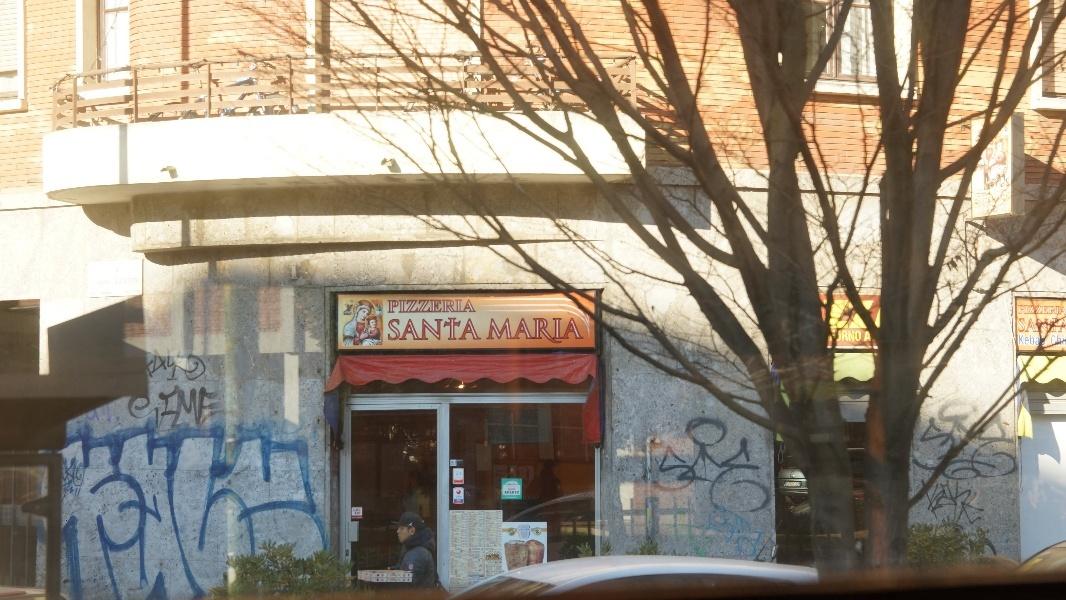text: (657, 443, 672, 493), (673, 443, 688, 493), (129, 385, 144, 433), (145, 385, 160, 433), (161, 385, 176, 433), (177, 385, 192, 433), (193, 385, 208, 433), (209, 385, 224, 433), (145, 349, 160, 383), (161, 349, 176, 383), (177, 349, 192, 383), (193, 349, 208, 383), (833, 296, 848, 330), (849, 296, 864, 330), (689, 443, 699, 493), (497, 316, 512, 346), (513, 316, 528, 346), (529, 316, 544, 346), (545, 316, 560, 346), (561, 316, 576, 346), (385, 316, 400, 342), (401, 316, 416, 342), (417, 316, 432, 342), (433, 316, 448, 342), (449, 316, 464, 342), (465, 316, 480, 342), (577, 316, 590, 346), (865, 296, 875, 330), (485, 316, 496, 346), (823, 296, 832, 330), (1025, 318, 1040, 335), (1041, 318, 1056, 335), (401, 299, 416, 314), (417, 299, 432, 314), (433, 299, 448, 314), (449, 299, 464, 314), (387, 299, 400, 314), (465, 299, 478, 314), (833, 330, 848, 343), (1025, 335, 1040, 348), (225, 385, 229, 433), (849, 330, 863, 343), (865, 330, 880, 342), (1025, 304, 1040, 316), (1041, 304, 1056, 316), (1057, 318, 1066, 335), (653, 443, 656, 493), (209, 349, 213, 383), (1041, 335, 1050, 348), (1057, 304, 1066, 316), (1057, 335, 1066, 347), (1019, 318, 1024, 335), (1017, 304, 1024, 316), (481, 316, 484, 342), (1018, 335, 1024, 348), (1051, 335, 1056, 347), (828, 330, 832, 343), (127, 385, 128, 433), (383, 316, 384, 342)
